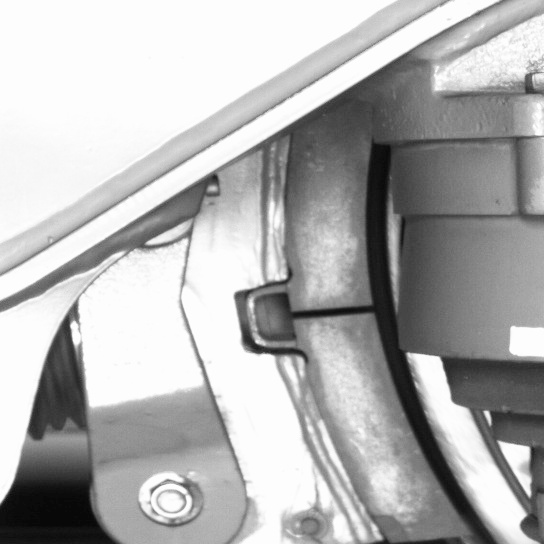KnifeSwitch: (288, 137, 504, 542)
